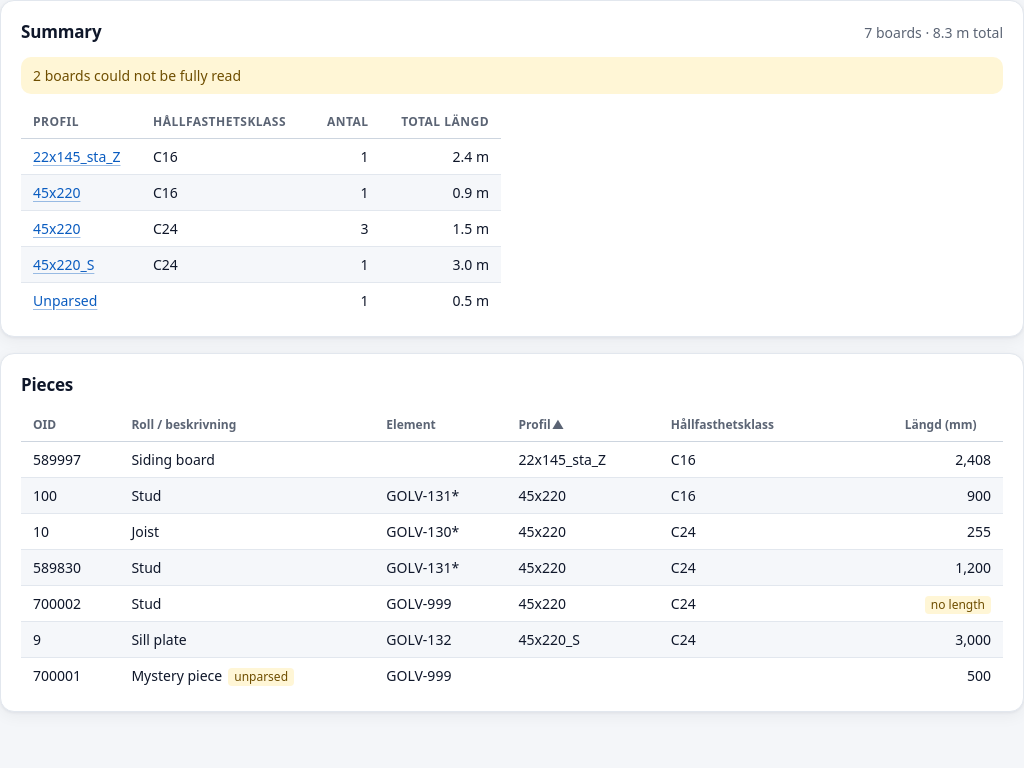
it: BoardsPanel › lists, marks and counts boards that could not be fully read
Check: the text "2 boards could not be fully read" is shown, box [21,56,1003,94]
Check: the cells read "700001", "Mystery pieceunparsed", "GOLV-999", "", "", "500", in this order, box [21,658,119,693]; [119,658,374,693]; [374,658,507,693]; [506,658,659,693]; [659,658,852,693]; [852,658,1003,693]
Click the button "Unparsed" at (65, 300), box [33,290,97,310]
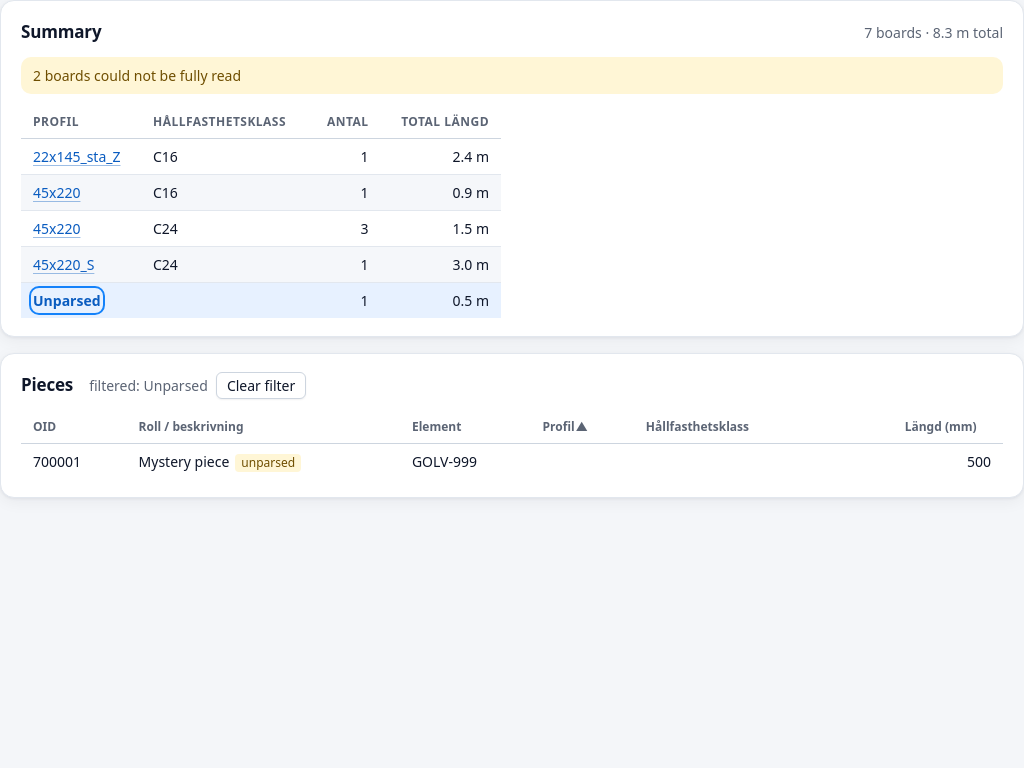
Check: the text "filtered: Unparsed" is shown, box [89,372,306,398]
